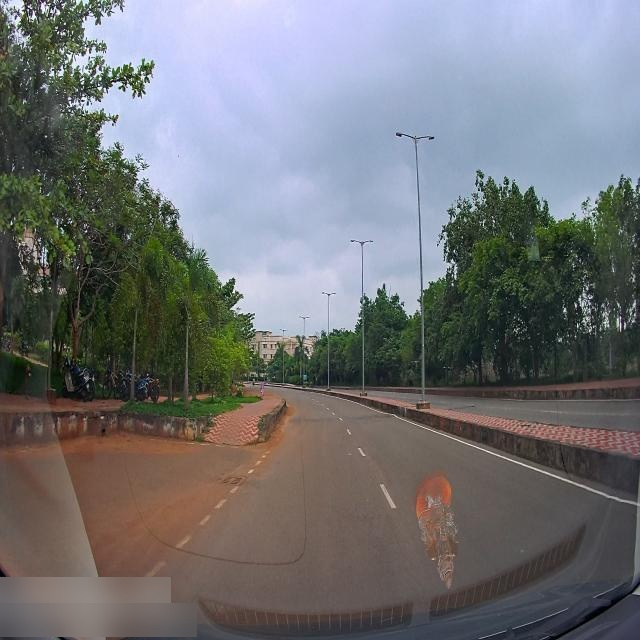pothole: (273, 456, 282, 466)
